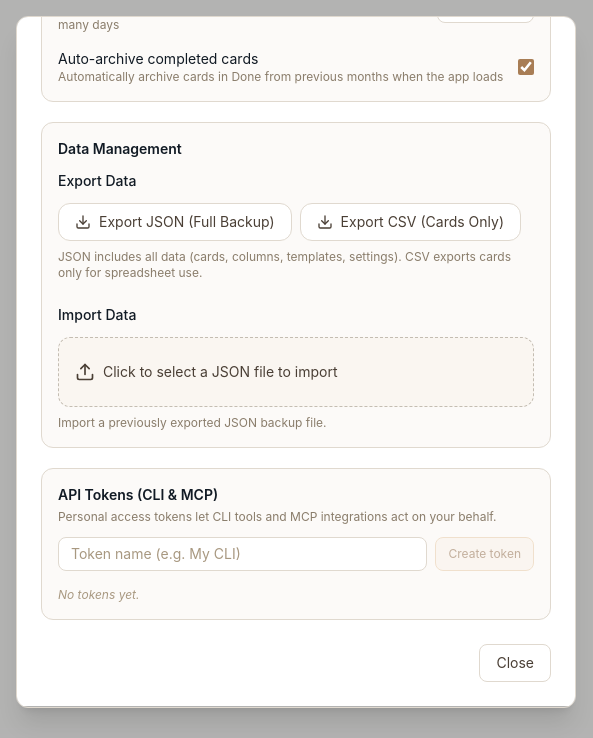
SettingsPanel — API Tokens section › create token › shows an error when creation fails
The width and height of the screenshot is (593, 738).
(page scrolled)
Expected: the text "No tokens yet." is shown, [58,587,140,602]
Type "Bad" into the field with placeholder "Token name (e.g. My CLI)" at coordinates (243, 554), box [58,537,428,571]
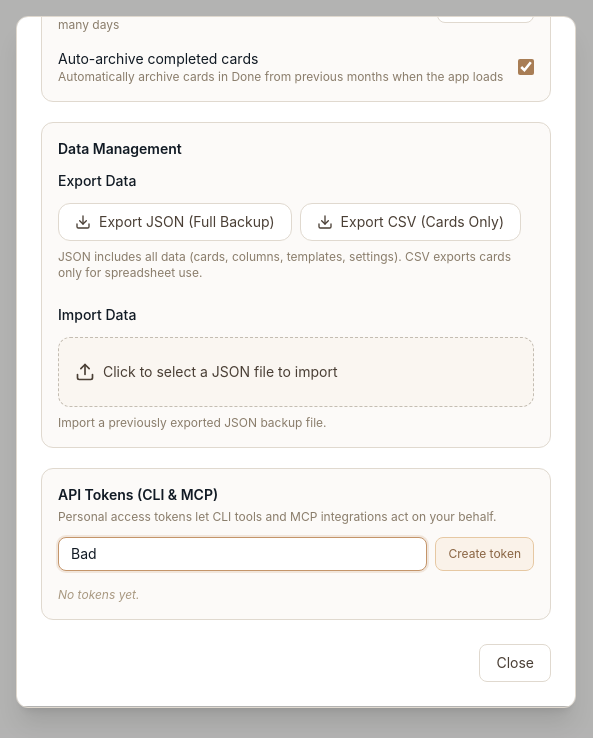
Click the button "Create token" at coordinates (485, 554), box [436,537,534,571]
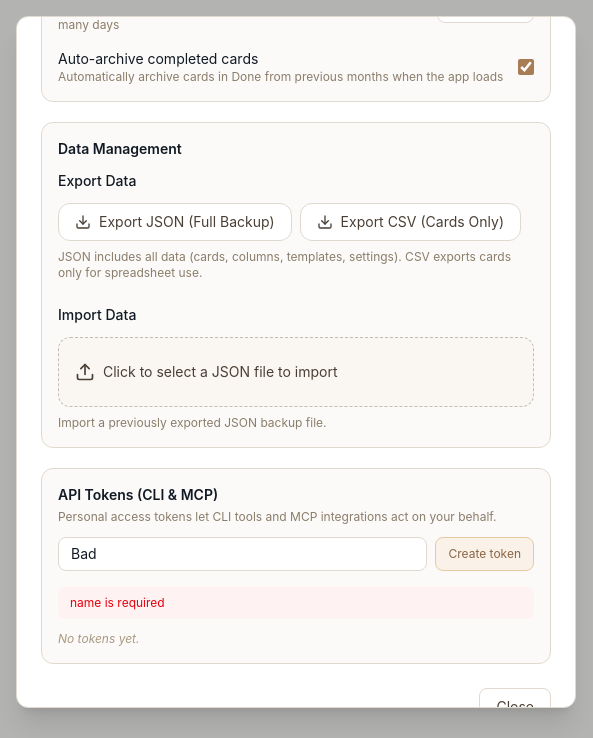
Now the text "name is required" is shown, box [58,587,534,619]
